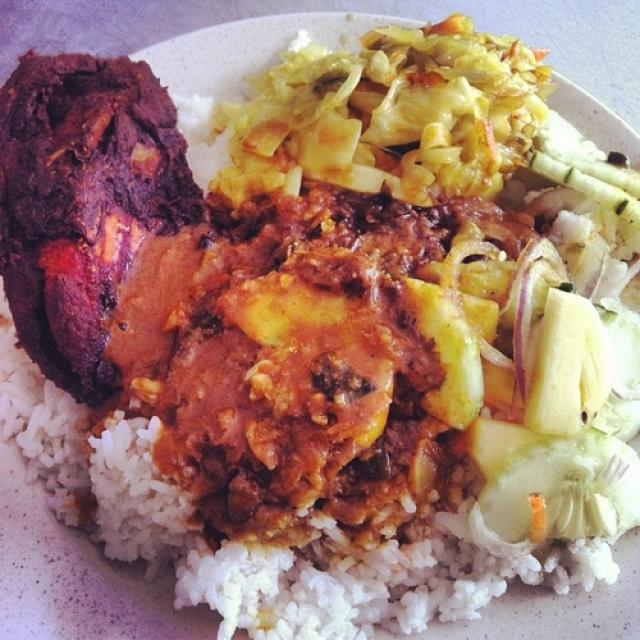鸡肉料理 含炸鸡: (13, 16, 609, 602)
